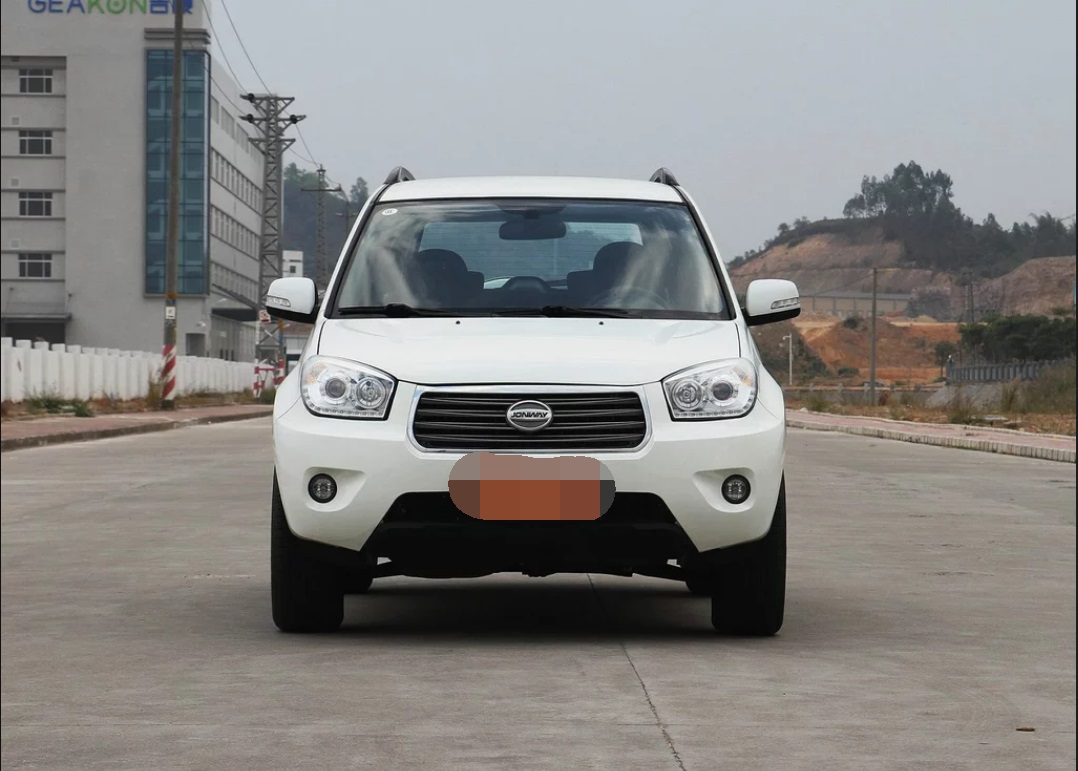SUV: (259, 167, 807, 639)
